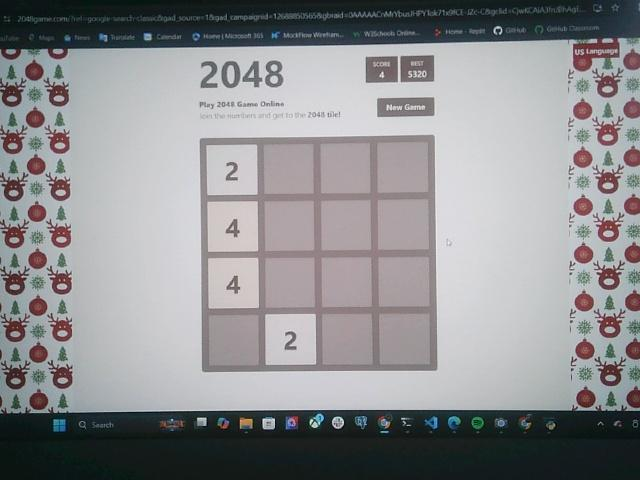best_score_box: (402, 56, 434, 83)
board: (201, 137, 436, 371)
button: (376, 97, 433, 117)
score_box: (367, 57, 397, 83)
tile: (265, 314, 317, 366), (207, 143, 257, 196), (209, 258, 260, 308), (208, 202, 258, 252)
